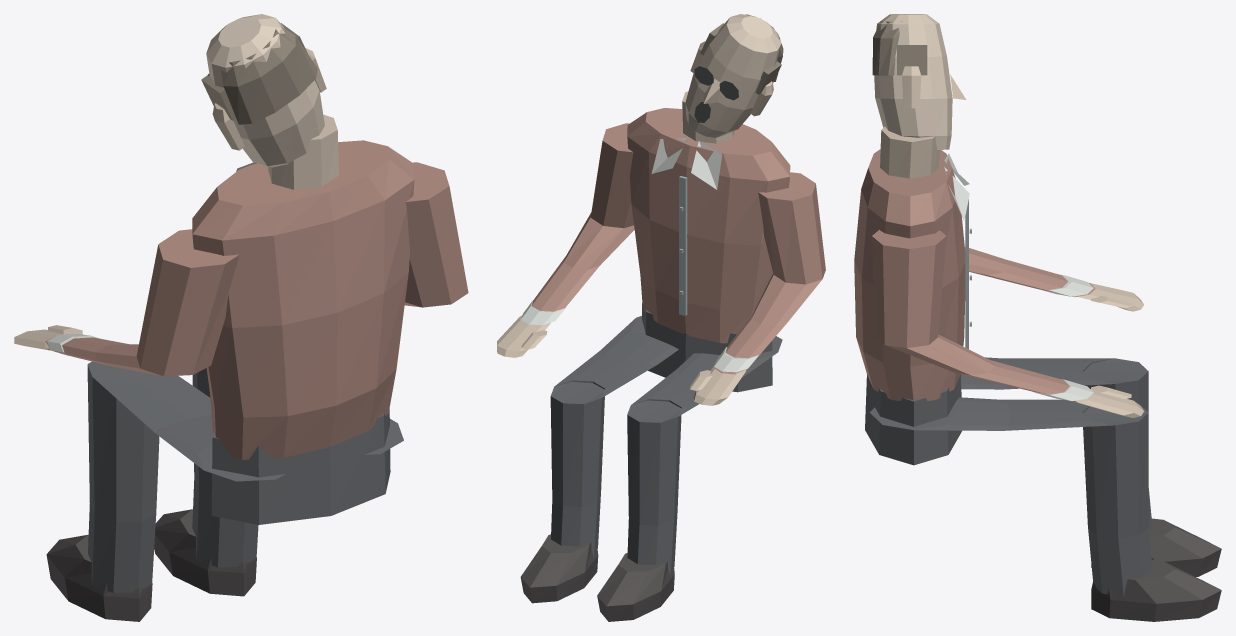
The model's file is 04_crooked_passenger_seated.gltf.
The picture shows the model from 3 angles, left to right: view 1: azimuth 30°, elevation 25°; view 2: azimuth 150°, elevation 25°; view 3: azimuth 270°, elevation 25°; orthographic projection. The views are drawn at different scales.
Parts seen in each view (by area): view 1: shirt_torso_5, L_trouser_0, left_sleeve_6, pelvis_4, head_15, right_sleeve_10, hair_back_24, R_trouser_2, leather_shoe_1, leather_shoe_3, neck_14, ear_16 (+1 smaller); view 2: shirt_torso_5, R_trouser_2, L_trouser_0, left_sleeve_6, right_sleeve_10, head_15, leather_shoe_3, leather_shoe_1, pelvis_4, shirt_placket_20, hand_8, hand_12 (+5 smaller); view 3: R_trouser_2, shirt_torso_5, right_sleeve_10, head_15, leather_shoe_3, pelvis_4, L_trouser_0, leather_shoe_1, neck_14, left_sleeve_6, hair_back_24, hand_12 (+6 smaller).
Part boxes in pixels (<box>): shirt_torso_5: <box>192,140,414,459</box>; L_trouser_0: <box>87,361,285,592</box>; left_sleeve_6: <box>45,229,239,376</box>; pelvis_4: <box>211,409,390,524</box>; head_15: <box>206,14,324,167</box>; right_sleeve_10: <box>404,162,468,307</box>; hair_back_24: <box>219,22,317,124</box>; R_trouser_2: <box>192,368,403,567</box>; leather_shoe_1: <box>46,534,152,621</box>; leather_shoe_3: <box>154,509,256,596</box>; neck_14: <box>268,114,338,189</box>; ear_16: <box>212,103,244,150</box>; shirt_torso_5: <box>627,108,790,343</box>; R_trouser_2: <box>550,316,678,556</box>; L_trouser_0: <box>627,336,782,575</box>; left_sleeve_6: <box>714,172,825,374</box>; right_sleeve_10: <box>531,123,634,311</box>; head_15: <box>685,14,781,137</box>; leather_shoe_3: <box>520,534,598,603</box>; leather_shoe_1: <box>597,553,674,621</box>; pelvis_4: <box>642,303,772,392</box>; shirt_placket_20: <box>679,176,687,315</box>; hand_8: <box>694,365,745,405</box>; hand_12: <box>497,315,550,357</box>; R_trouser_2: <box>870,397,1152,596</box>; shirt_torso_5: <box>854,149,965,401</box>; right_sleeve_10: <box>872,230,1069,394</box>; head_15: <box>874,14,952,149</box>; leather_shoe_3: <box>1091,560,1221,621</box>; pelvis_4: <box>865,374,961,465</box>; L_trouser_0: <box>961,357,1152,530</box>; leather_shoe_1: <box>1091,518,1221,576</box>; neck_14: <box>880,126,940,178</box>; left_sleeve_6: <box>965,247,1095,297</box>; hair_back_24: <box>872,21,902,75</box>; hand_12: <box>1072,389,1144,417</box>.
Bounding box in the file's own units: 0.64 × 1.31 × 0.788.
